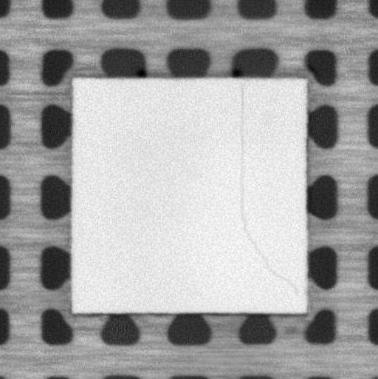DIE_CRACK: (237, 88, 299, 295)
